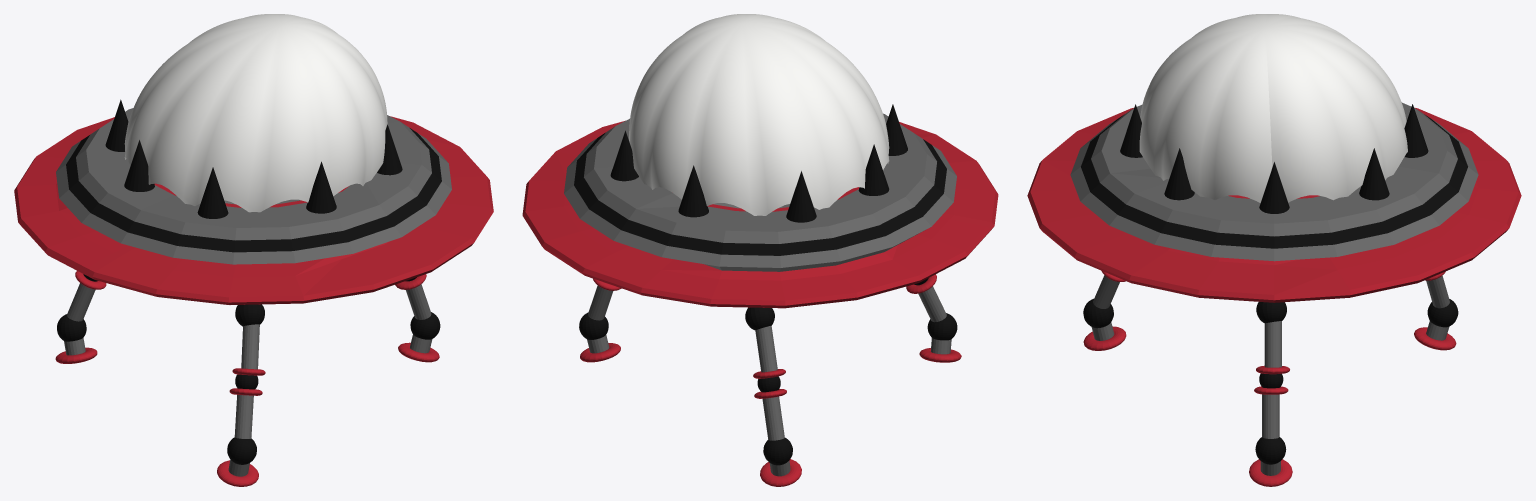
File: opus55_t01.glb
3 renders of one model, left to right at view 1: azimuth 30°, elevation 25°; view 2: azimuth 150°, elevation 25°; view 3: azimuth 270°, elevation 25°, orthographic. The views are drawn at different scales.
Visible parts, largest first — view 1: slot_anchor_saucer, canopy, slot_legs; view 2: slot_anchor_saucer, canopy, slot_legs; view 3: slot_anchor_saucer, canopy, slot_legs.
Boxes of the visible parts, bbox=[...] form: slot_anchor_saucer: bbox=[14, 99, 493, 304]; canopy: bbox=[124, 14, 387, 212]; slot_legs: bbox=[55, 271, 440, 486]; slot_anchor_saucer: bbox=[522, 104, 998, 308]; canopy: bbox=[629, 14, 889, 215]; slot_legs: bbox=[579, 274, 961, 486]; slot_anchor_saucer: bbox=[1027, 102, 1521, 302]; canopy: bbox=[1139, 14, 1407, 202]; slot_legs: bbox=[1083, 271, 1458, 486].
Bounding box in the file's own units: 2 × 1.7 × 2.
Materials: 2 (1 with a texture image).
